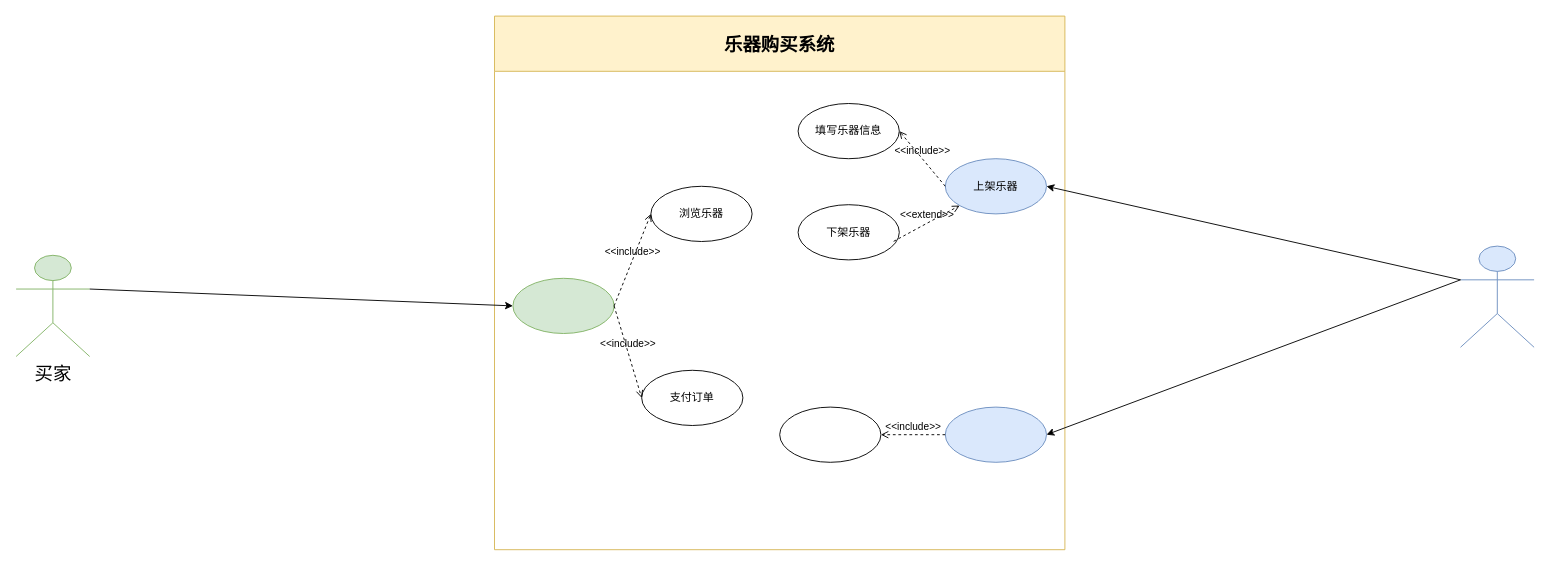
Some shapes in this 1550 by 566 pixel diagram are drawn without their labels. The shapes that lost their labels are listed below. From the top down, each one's centre as x and y in pixels, then its label:
(563,305): 购买乐器
(1497,296): 商家
(830,434): 发货
(995,434): 处理订单
